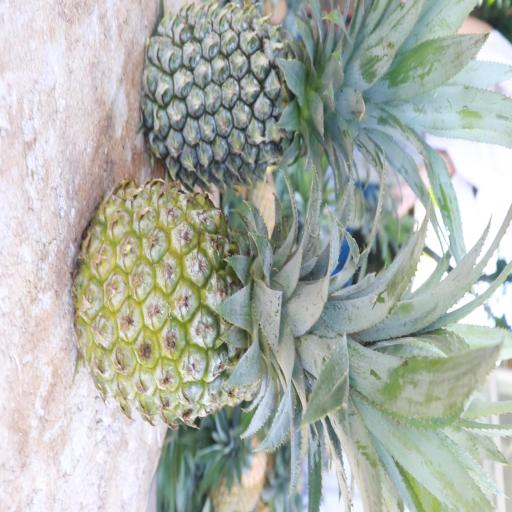------------------------------: (69, 173, 364, 429)
